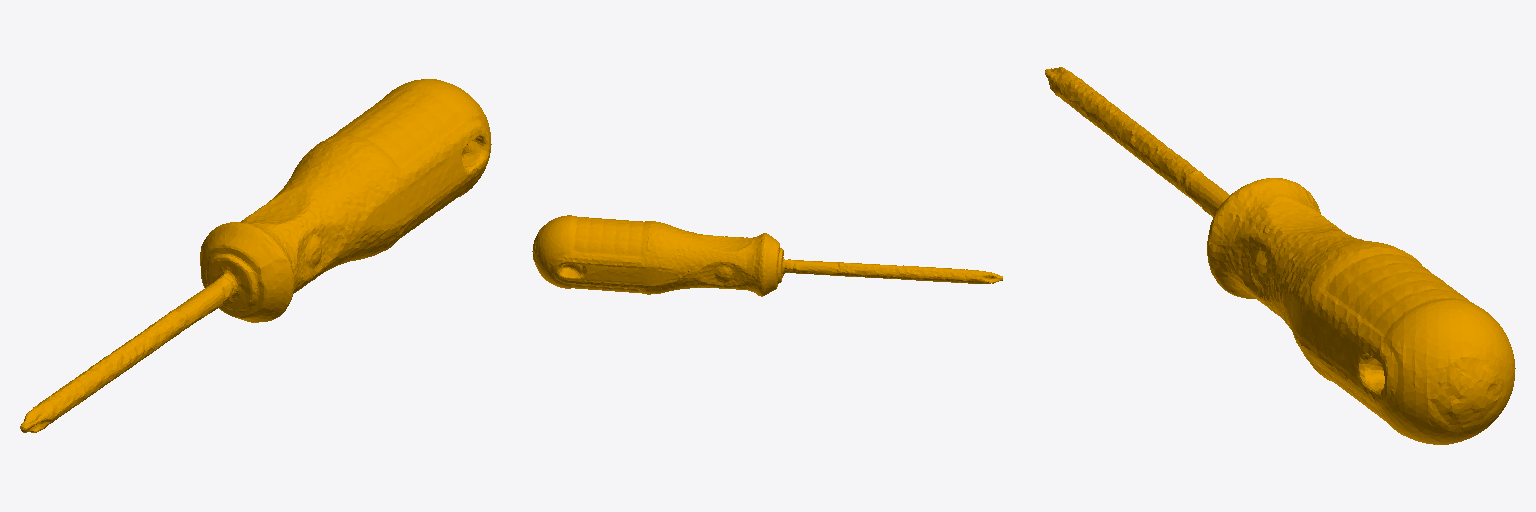
robot.urdf — 043_phillips_screwdriver:
<?xml version="1.0" ?>
<robot name="043_phillips_screwdriver">
  <link name="base_link">
    <inertial>
      <mass value="0.011326228538925509"/>
      <origin rpy="1.8209  -1.39906 -1.35246" xyz="-0.01397  0.01387  0.0156"/>
      <inertia ixx="2.4623743720616394e-05" ixy="7.644740084434037e-22" ixz="-7.8454007656543e-22" iyy="2.46112465753e-05" iyz="5.3362420527190844e-21" izz="1.2976250880965993e-06"/>
    </inertial>
    <collision name="043_phillips_screwdriver__collision">
      <origin rpy="0 0 0" xyz="0 0 0"/>
      <geometry>
        <mesh filename="./043_phillips_screwdriver_250_collision.stl" scale="1.0 1.0 1.0"/>
      </geometry>
    </collision>
    <visual name="043_phillips_screwdriver__visual">
      <origin rpy="0 0 0" xyz="0 0 0"/>
      <geometry>
        <mesh filename="./textured.obj" scale="1.0 1.0 1.0"/>
      </geometry>
    </visual>
  </link>
</robot>

--- What the picture shows (computed from the rendered views, not written in the file) ---
3 views of the same robot in one strip: view 1: azimuth 30°, elevation 25°; view 2: azimuth 150°, elevation 25°; view 3: azimuth 270°, elevation 25° (orthographic).
Robot: 043_phillips_screwdriver — 1 links, 0 joints (none); root link base_link; default pose: all joints at 0.
Links seen in each view (by area): view 1: base_link; view 2: base_link; view 3: base_link.
Boxes of the visible links, x1=… form: base_link: x1=20, y1=79, x2=491, y2=432; base_link: x1=532, y1=215, x2=1002, y2=296; base_link: x1=1045, y1=67, x2=1515, y2=444.
Bounding box of the posed robot: 0.1949 × 0.107 × 0.0355 m (x, y, z).
Meshes: 1 distinct files referenced, 1 mesh visuals loaded (1 OBJ).